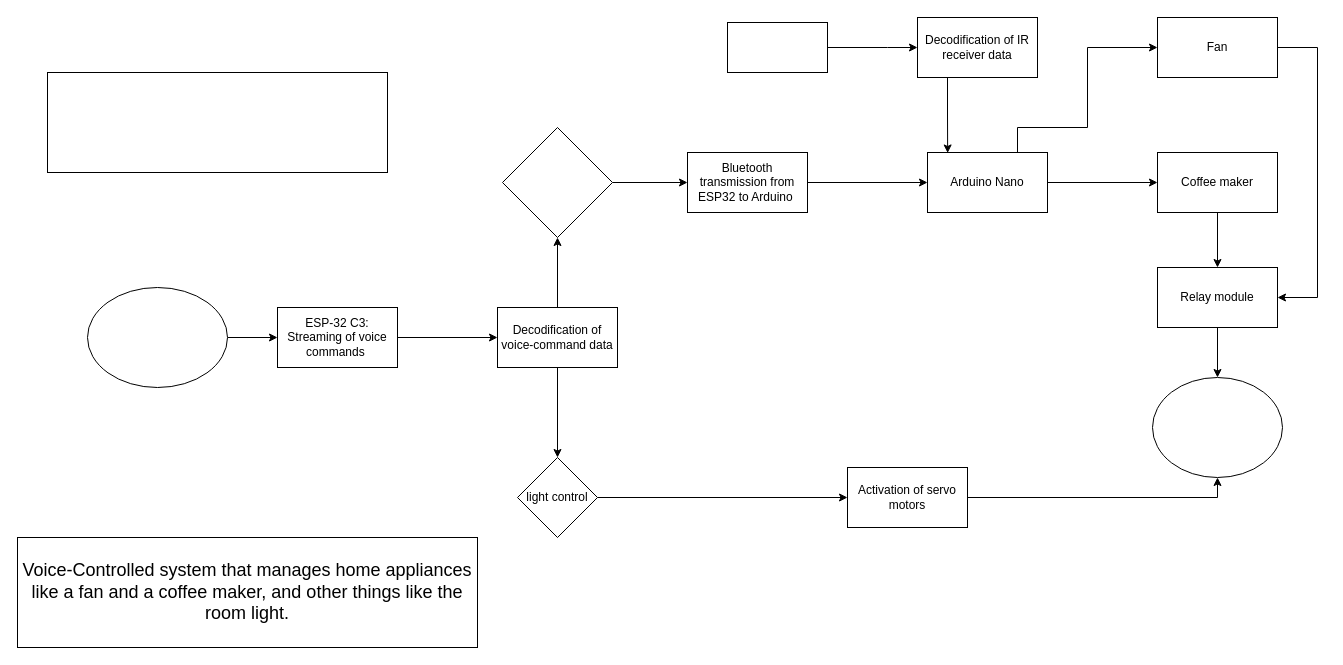
This 1343x665 diagram has some shape labels left out. The centre of each missing label's shape, as x and y in pixels:
AI-thinker VC02 module: Recognition of voice commands: point 157,337
Coffee-maker and fan control: point 557,182
IR receiver: point 777,47
Turn on or off -Fan (relay) -Coffee maker (relay) -light (servo): point 1217,427
Voice-Controlled Home Automation System Exo 334 project: point 217,122
